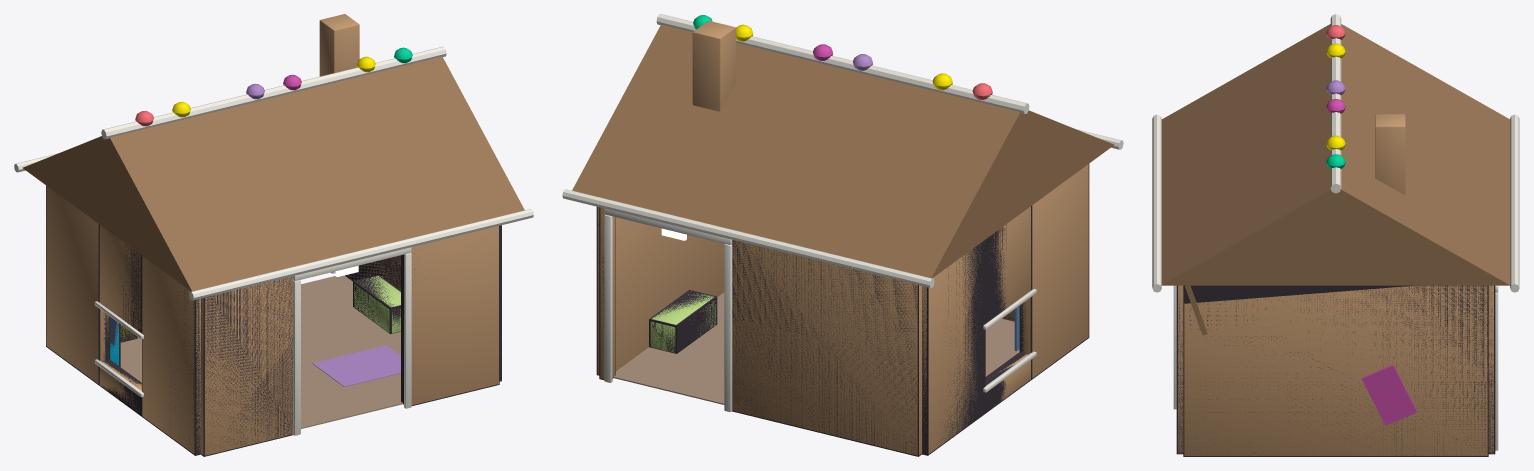
File: TW_Shelter_GingerHouse.fbx
3 renders of one model, left to right at view 1: azimuth 30°, elevation 25°; view 2: azimuth 150°, elevation 25°; view 3: azimuth 270°, elevation 25°, orthographic. The views are drawn at different scales.
Parts seen in each view (by area): view 1: Body, COL_Wall_00, COL_Wall_06, COL_Wall_10, COL_Sofa, COL_Wall_09, COL_Wall_07, COL_Wall_08, COL_Wall_01; view 2: Body, COL_Wall_03, COL_Wall_07, COL_Sofa, COL_Wall_09, COL_Wall_06, COL_Wall_08; view 3: Body, COL_Wall_10, COL_Wall_04, COL_Wall_01.
Boxes of the visible parts, <box> form: Body: <box>14,14,533,455</box>; COL_Wall_00: <box>201,277,293,456</box>; COL_Wall_06: <box>142,256,200,455</box>; COL_Wall_10: <box>345,225,501,381</box>; COL_Sofa: <box>353,275,400,334</box>; COL_Wall_09: <box>99,224,141,333</box>; COL_Wall_07: <box>46,185,110,385</box>; COL_Wall_08: <box>99,360,141,416</box>; COL_Wall_01: <box>401,226,499,405</box>; Body: <box>562,14,1123,455</box>; COL_Wall_03: <box>732,240,921,456</box>; COL_Wall_07: <box>922,239,985,455</box>; COL_Sofa: <box>649,289,717,353</box>; COL_Wall_09: <box>985,206,1031,323</box>; COL_Wall_06: <box>1019,164,1089,379</box>; COL_Wall_08: <box>985,352,1031,413</box>; Body: <box>1152,14,1519,455</box>; COL_Wall_10: <box>1183,285,1488,456</box>; COL_Wall_04: <box>1488,285,1495,454</box>; COL_Wall_01: <box>1176,285,1183,454</box>.
Bounding box in the file's own units: 18.4 × 15.5 × 16.84.
